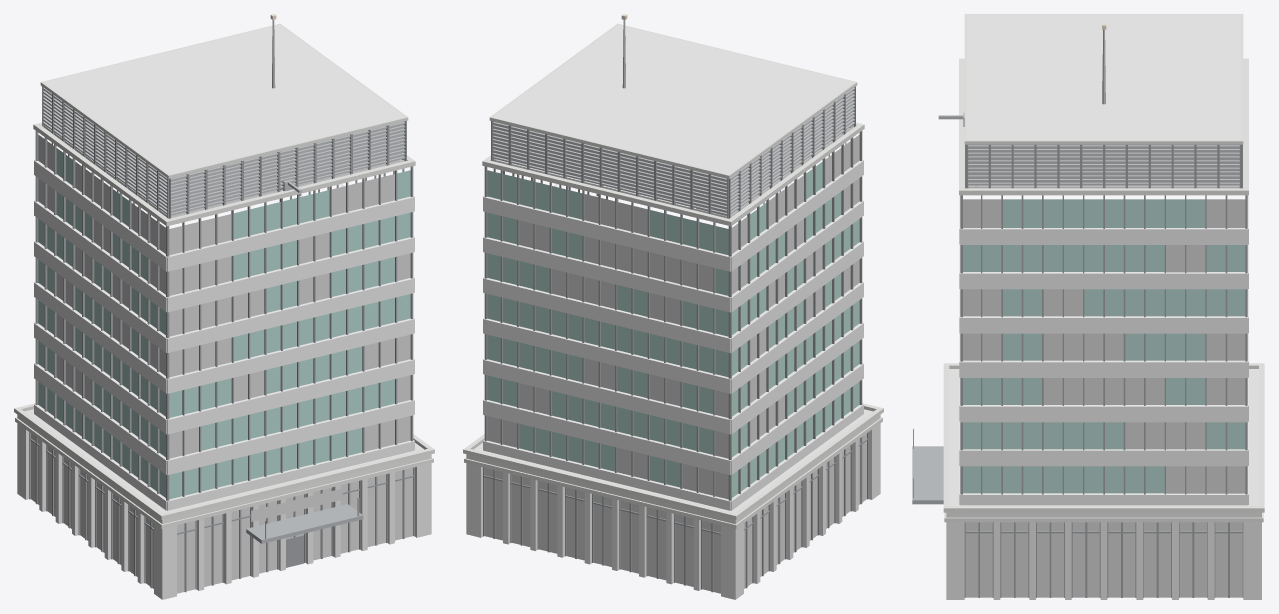
Rendered from office_w90f9.glb.
3 renders of one model, left to right at view 1: azimuth 30°, elevation 25°; view 2: azimuth 150°, elevation 25°; view 3: azimuth 270°, elevation 25°, orthographic. The views are drawn at different scales.
Parts seen in each view (by area): view 1: office_w90f9_Walls, office_w90f9_Glass, office_w90f9_WindowsLit, office_w90f9_Roof, office_w90f9_Frames, office_w90f9_Walls2, office_w90f9_Details, office_w90f9_Trim, office_w90f9_Accent, office_w90f9_Brand; view 2: office_w90f9_Walls, office_w90f9_Glass, office_w90f9_WindowsLit, office_w90f9_Roof, office_w90f9_Frames, office_w90f9_Walls2, office_w90f9_Details, office_w90f9_Trim; view 3: office_w90f9_Roof, office_w90f9_Walls, office_w90f9_Glass, office_w90f9_WindowsLit, office_w90f9_Frames, office_w90f9_Trim, office_w90f9_Details, office_w90f9_Walls2, office_w90f9_Accent.
Boxes of the visible parts, <box> form: office_w90f9_Walls: <box>34,125,414,510</box>; office_w90f9_Glass: <box>38,148,410,499</box>; office_w90f9_WindowsLit: <box>31,135,413,593</box>; office_w90f9_Roof: <box>24,25,423,513</box>; office_w90f9_Frames: <box>29,86,414,592</box>; office_w90f9_Walls2: <box>17,414,431,599</box>; office_w90f9_Details: <box>43,20,405,538</box>; office_w90f9_Trim: <box>14,23,434,528</box>; office_w90f9_Accent: <box>246,504,363,543</box>; office_w90f9_Brand: <box>251,488,342,521</box>; office_w90f9_Walls: <box>483,125,863,510</box>; office_w90f9_Glass: <box>487,162,859,497</box>; office_w90f9_WindowsLit: <box>484,135,866,593</box>; office_w90f9_Roof: <box>474,25,873,513</box>; office_w90f9_Frames: <box>483,86,868,592</box>; office_w90f9_Walls2: <box>466,414,880,599</box>; office_w90f9_Details: <box>492,20,854,215</box>; office_w90f9_Trim: <box>463,23,883,528</box>; office_w90f9_Roof: <box>949,15,1258,505</box>; office_w90f9_Walls: <box>959,186,1248,505</box>; office_w90f9_Glass: <box>963,199,1245,493</box>; office_w90f9_WindowsLit: <box>963,199,1245,597</box>; office_w90f9_Frames: <box>960,144,1247,597</box>; office_w90f9_Trim: <box>943,14,1264,522</box>; office_w90f9_Details: <box>913,29,1239,498</box>; office_w90f9_Walls2: <box>946,512,1261,599</box>; office_w90f9_Accent: <box>912,446,943,504</box>.
Bounding box in the file's own units: 91.4 × 156 × 93.7.
